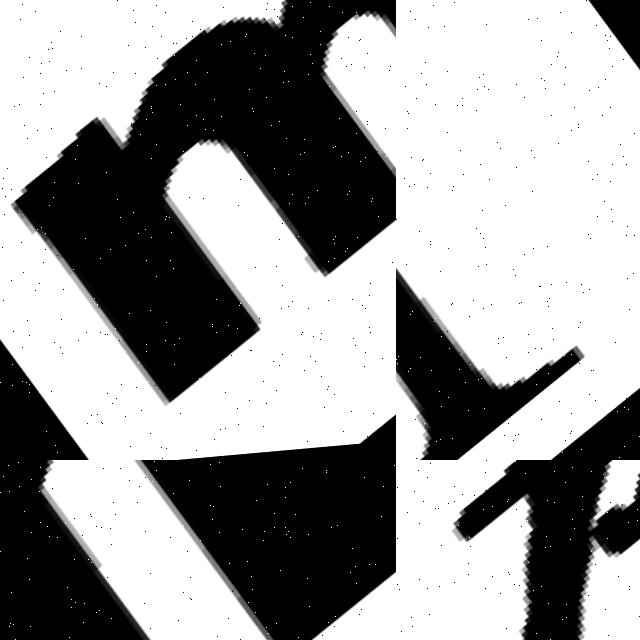1: (396, 0, 627, 460)
M: (0, 0, 396, 434)
N: (0, 460, 396, 640)
P: (396, 460, 640, 640)
